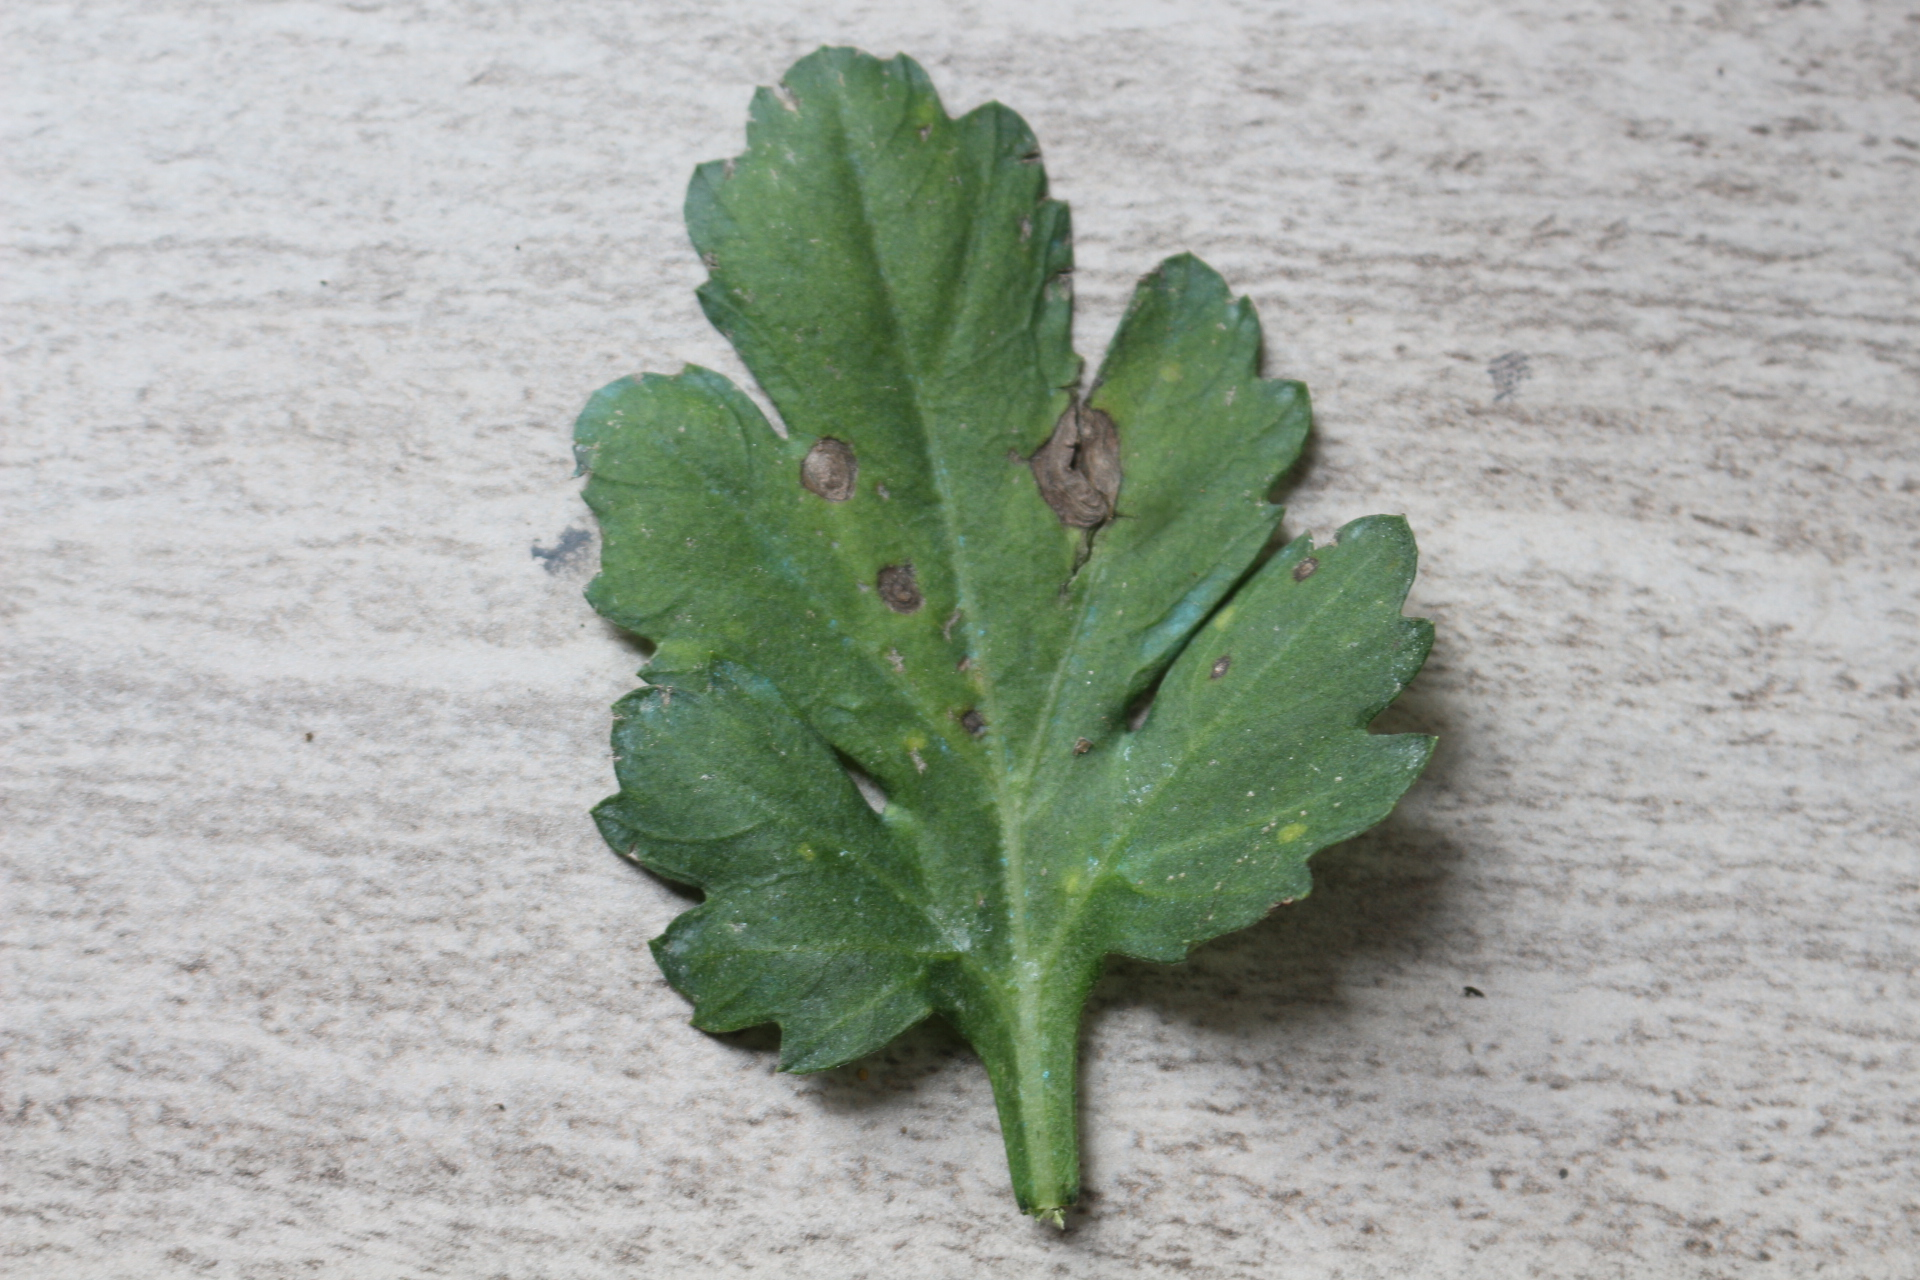namden: (1024, 400, 1130, 544), (794, 431, 874, 513), (870, 551, 931, 616), (949, 701, 1000, 744), (1199, 653, 1239, 686), (1293, 556, 1321, 591)
namsung: (889, 720, 934, 757), (791, 837, 831, 869), (1274, 819, 1309, 851)
